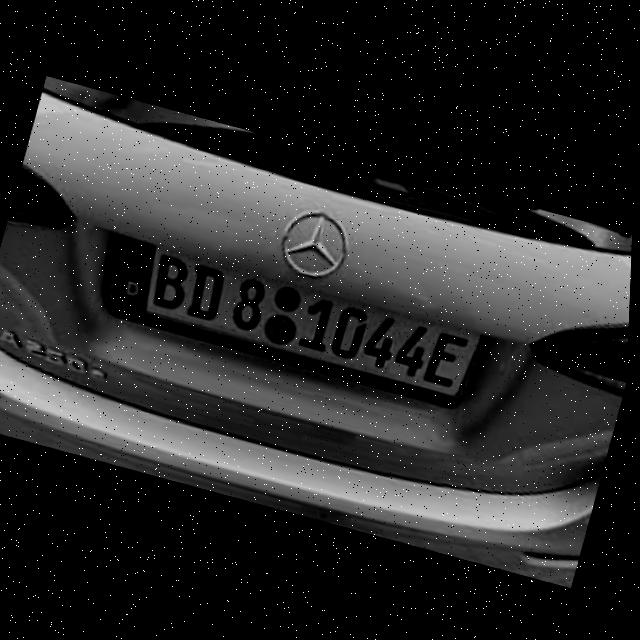license-plates: (113, 237, 485, 401)
